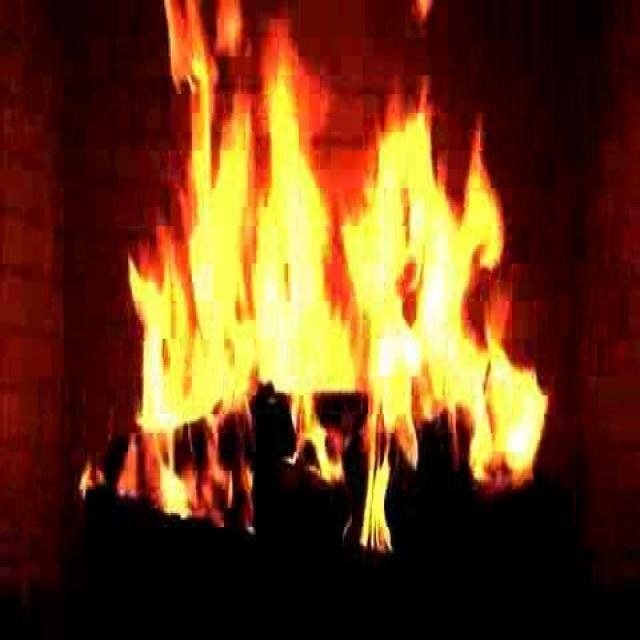Fire: (122, 30, 549, 515)
